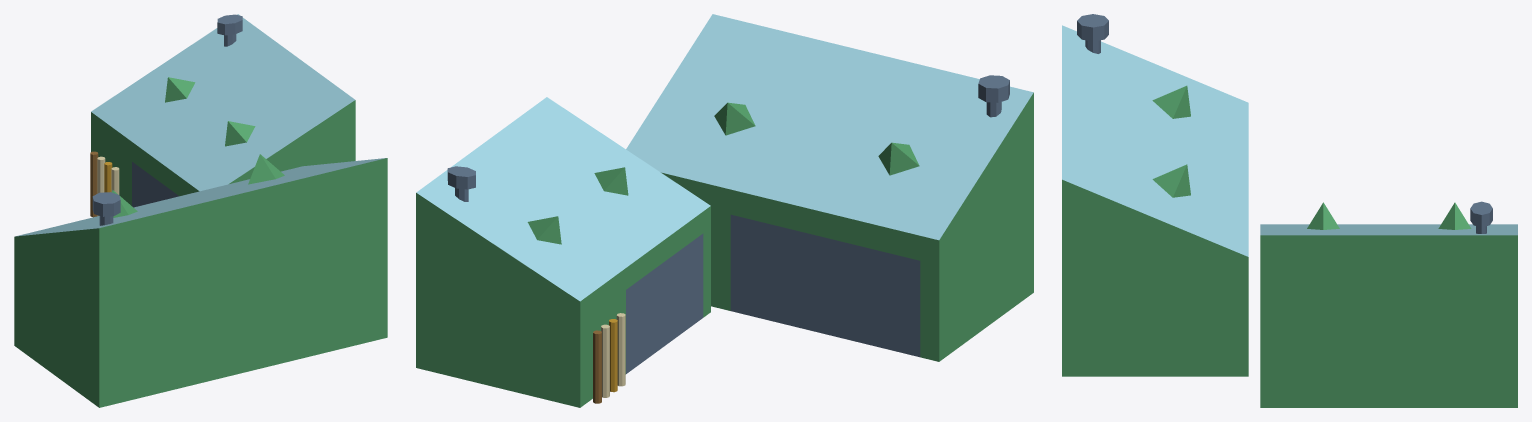
The model's file is xFurnitureFactory.fbx.
The picture shows the model from 3 angles, left to right: view 1: azimuth 30°, elevation 25°; view 2: azimuth 150°, elevation 25°; view 3: azimuth 270°, elevation 25°; orthographic projection. The views are drawn at different scales.
Visible parts, largest first — view 1: Cylinder.006, Cylinder.011, Cylinder.012; view 2: Cylinder.006, Cylinder.011, Cylinder.012; view 3: Cylinder.006, Cylinder.011.
Part boxes in pixels (box(x1,y1,x2,y2)): Cylinder.006: box(14, 154, 387, 407); Cylinder.011: box(91, 14, 355, 207); Cylinder.012: box(90, 151, 119, 217); Cylinder.006: box(626, 14, 1033, 361); Cylinder.011: box(416, 97, 710, 407); Cylinder.012: box(593, 313, 625, 403); Cylinder.006: box(1062, 14, 1248, 376); Cylinder.011: box(1260, 201, 1517, 407).
Size of the model in its own units: 5650 by 3027 by 5868.
